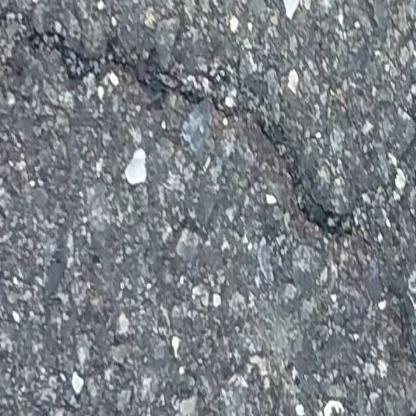Cracks: (0, 22, 416, 234), (400, 292, 416, 416)
